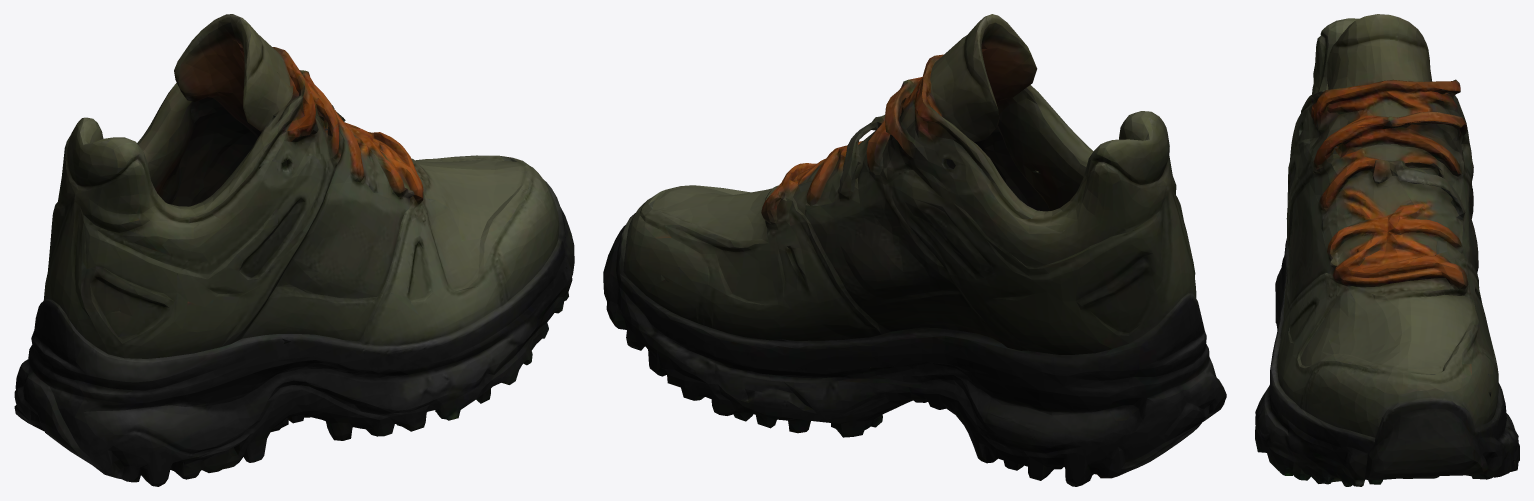
File: duna.glb
The picture shows the model from 3 angles, left to right: view 1: azimuth 30°, elevation 25°; view 2: azimuth 150°, elevation 25°; view 3: azimuth 270°, elevation 25°; orthographic projection. The views are drawn at different scales.
Visible parts, largest first — view 1: geometry_0; view 2: geometry_0; view 3: geometry_0.
Part boxes in pixels (bbox=[...]): geometry_0: bbox=[14, 14, 574, 486]; geometry_0: bbox=[603, 14, 1226, 486]; geometry_0: bbox=[1255, 14, 1519, 486].
Bounding box in the file's own units: 0.9988 × 0.7016 × 0.44.
Materials: 1 (1 with a texture image).
